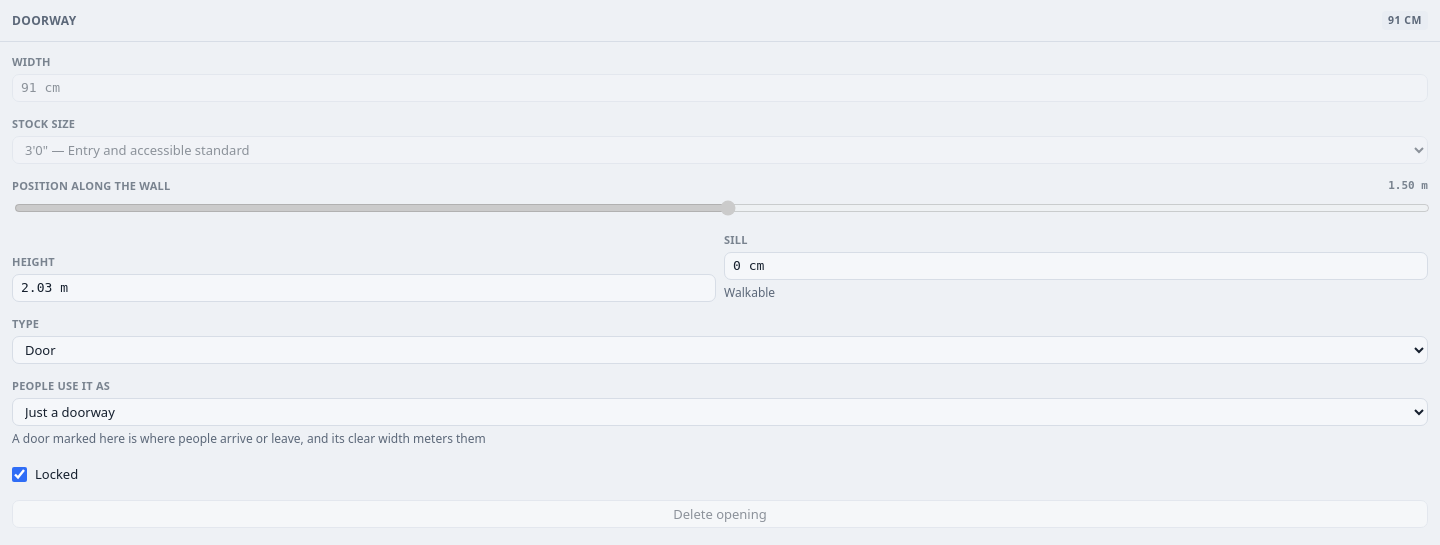
Scenario: the inspector with a locked object selected › will not move a locked door along its wall or delete it, and is where it gets unlocked
The width and height of the screenshot is (1440, 545).
Expected: the slider labelled "Position along the wall 1.50 m" is disabled, [14,200,1430,216]
Expected: the field labelled "Width" is disabled, [12,74,1428,102]
Click the checkbox labelled "Locked".
click(20, 474)  # box [12,466,27,482]
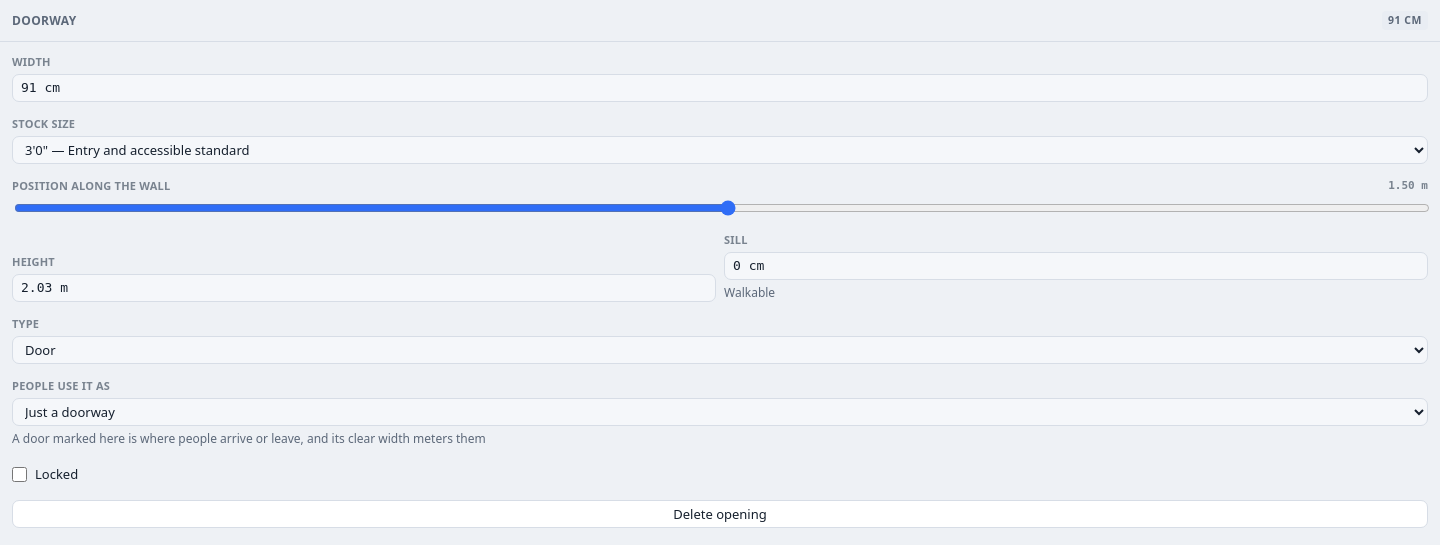
Expected: the slider labelled "Position along the wall 1.50 m" is enabled, [14,200,1430,216]
